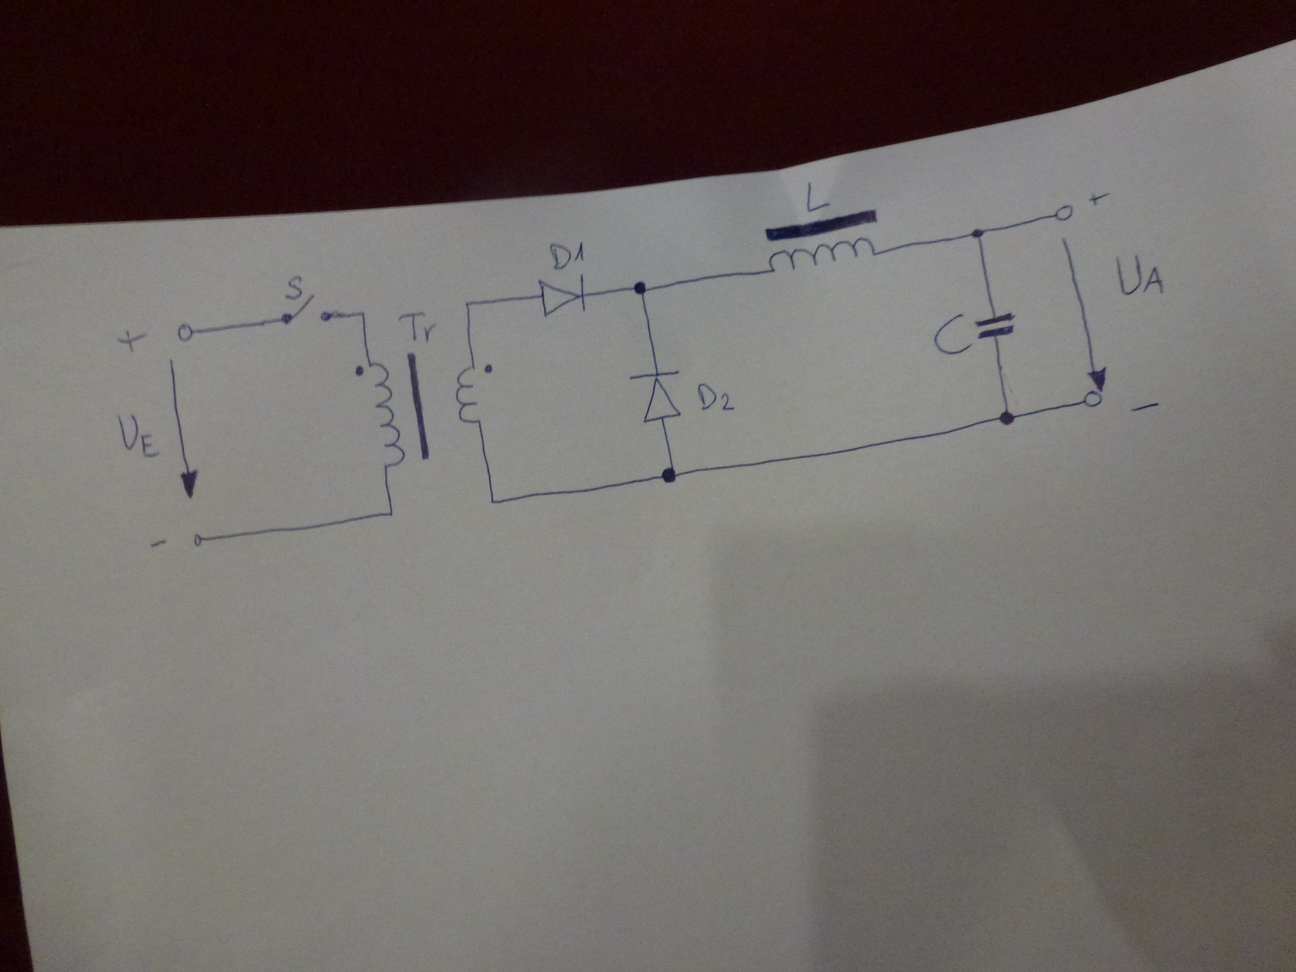capacitor.unpolarized: (971, 310, 1019, 342)
diode: (630, 362, 684, 422), (535, 271, 589, 318)
inductor: (760, 205, 880, 282)
junction: (994, 404, 1021, 429), (658, 463, 682, 487), (629, 276, 651, 299), (967, 223, 989, 243), (380, 505, 400, 522), (461, 297, 477, 312), (486, 494, 501, 508), (356, 307, 369, 321)
switch: (278, 293, 334, 327)
terminal: (171, 319, 202, 343), (1051, 203, 1076, 225), (1081, 390, 1104, 409), (190, 531, 207, 549)
text: (1112, 250, 1166, 299), (114, 408, 160, 460), (932, 311, 976, 357), (693, 381, 736, 414), (545, 239, 587, 271), (397, 311, 437, 344), (803, 177, 832, 214), (278, 273, 309, 302)
transformer: (352, 349, 496, 469)
